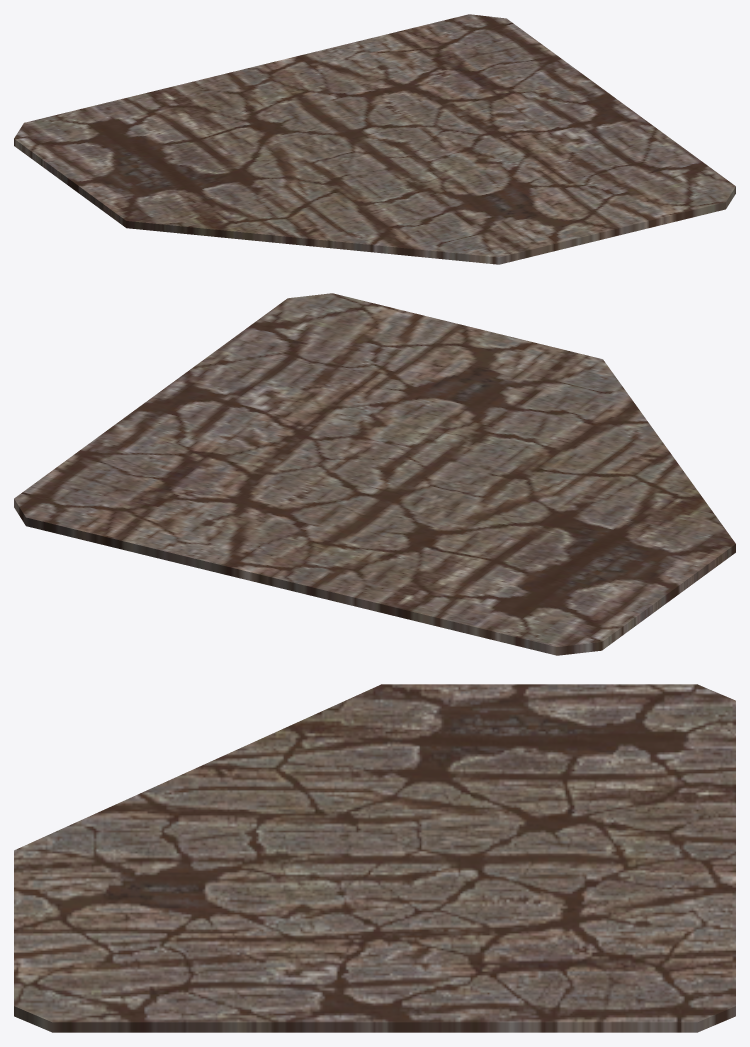
Rendered from angle_st.FBX.
3 views of the same model, one above another, from view 1: azimuth 30°, elevation 25°; view 2: azimuth 150°, elevation 25°; view 3: azimuth 270°, elevation 25° (orthographic). The views are drawn at different scales.
Visible parts, largest first — view 1: angle_st; view 2: angle_st; view 3: angle_st.
Boxes of the visible parts, box(x1,y1,x2,y2) form: angle_st: box(14, 14, 735, 264); angle_st: box(14, 293, 735, 655); angle_st: box(14, 684, 735, 1032).
Size of the model in its own units: 4.25 by 3.83 by 0.06.
